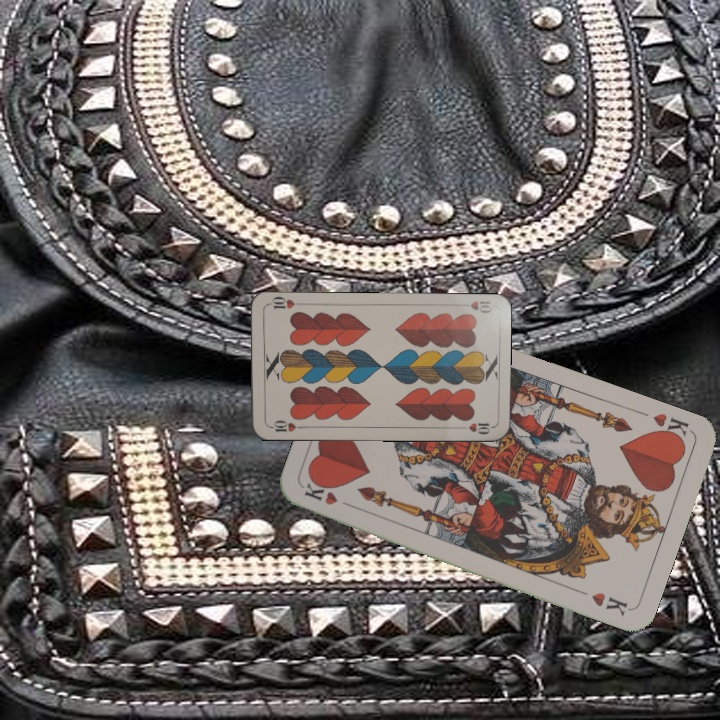H10: (265, 416, 306, 435), (454, 297, 494, 315)
HK: (300, 480, 358, 511), (648, 409, 694, 446)
